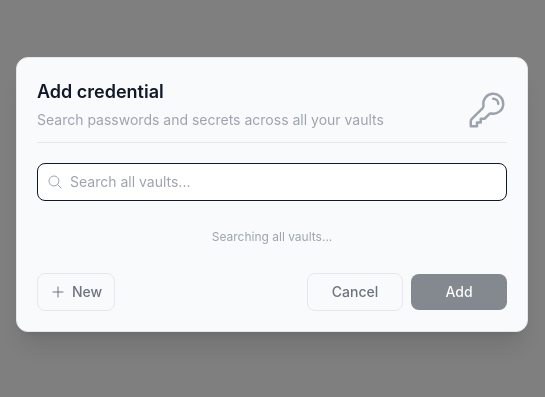
Test: unified credential picker › ignores search results from an older query
Type "work" into the search field.
click(272, 182); type("work")  # box [37,162,507,200]
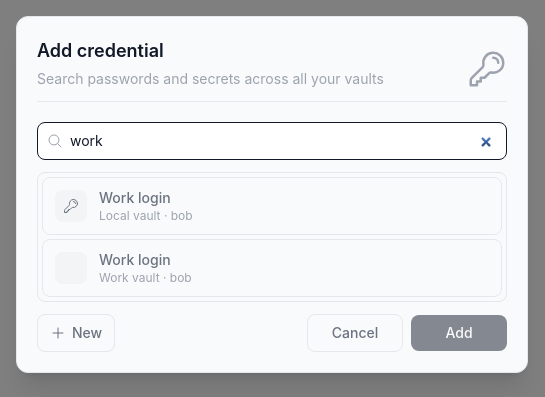
Check: the button named "Work login, Work vault" is shown, box [42,238,502,296]
